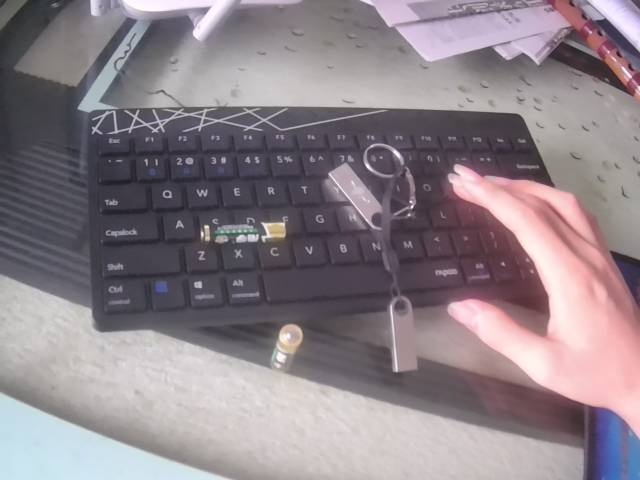U-disk: (322, 143, 419, 232), (382, 285, 426, 381)
battery: (193, 219, 294, 247), (271, 320, 302, 378)
